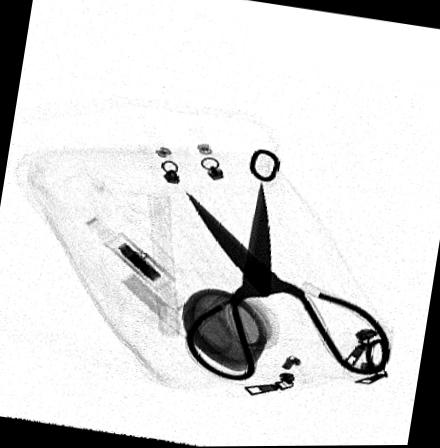Scissors: (181, 175, 397, 383)
